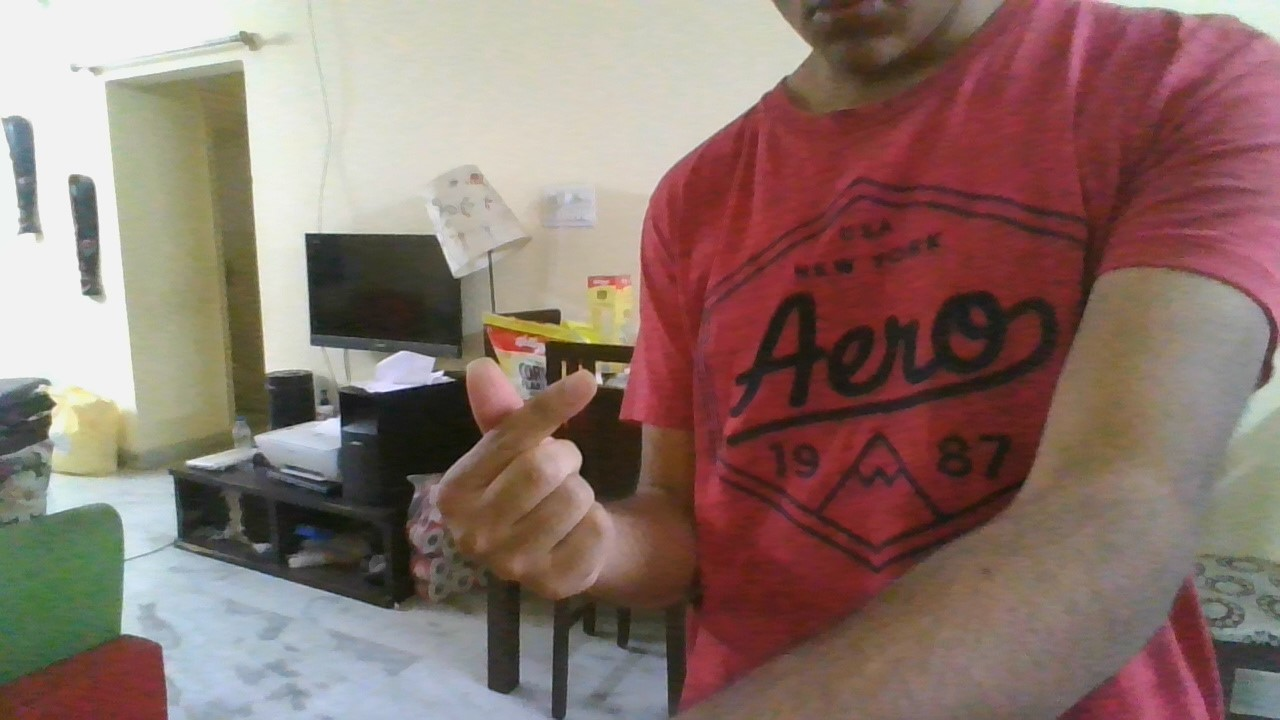eof: (430, 354, 621, 605)
